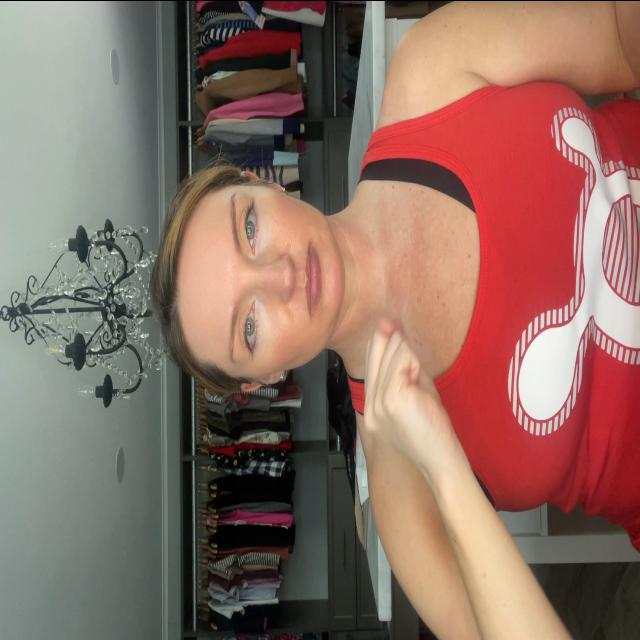Rock: (362, 317, 454, 482)
